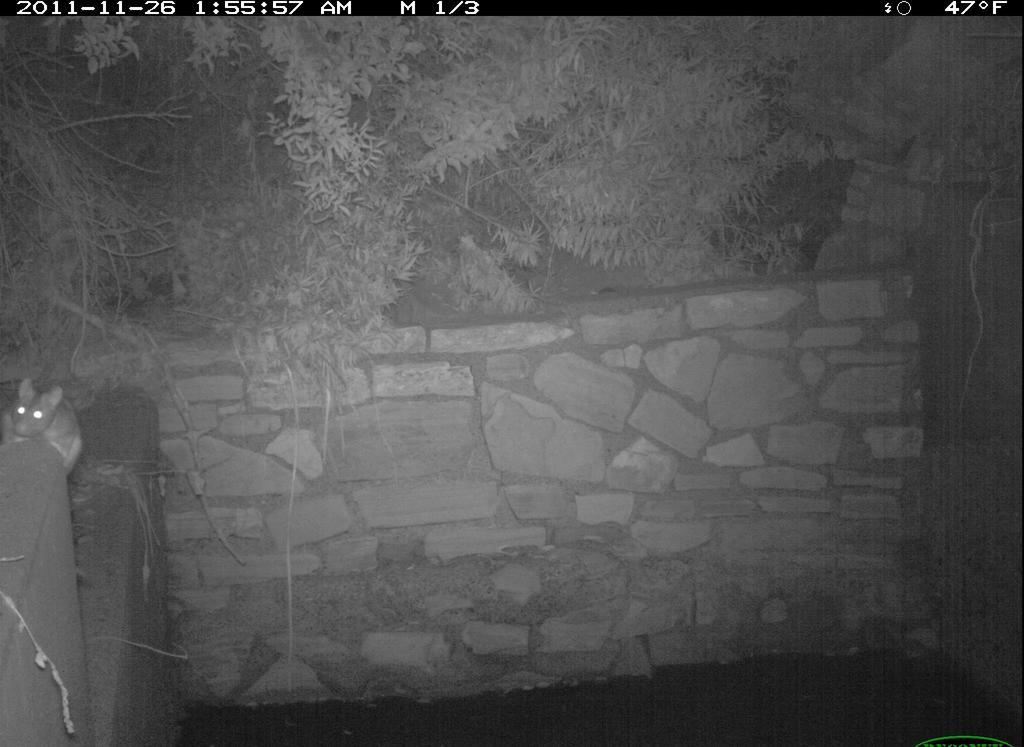rodent: (7, 367, 93, 477)
